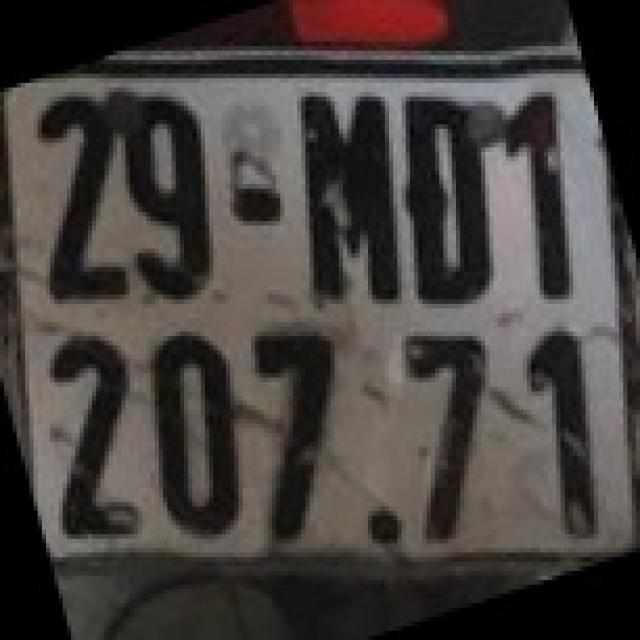0: (146, 327, 247, 539)
1: (523, 326, 611, 544), (506, 80, 590, 306)
2: (42, 326, 146, 544), (34, 87, 130, 304)
7: (247, 327, 343, 548), (402, 327, 489, 548)
9: (121, 87, 222, 304)
D: (404, 88, 504, 318)
M: (295, 83, 404, 318)
